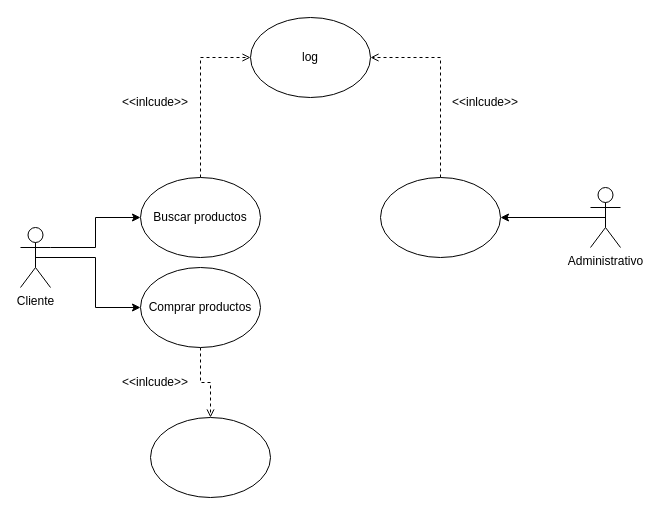
The diagram is 660 pixels wide and 515 high, and some of its shapes have lost their labels. The centre of each missing label's shape, as x and y in pixels:
"Buscar producto" goes at (x=210, y=457).
"Insertar productos" goes at (x=440, y=217).
